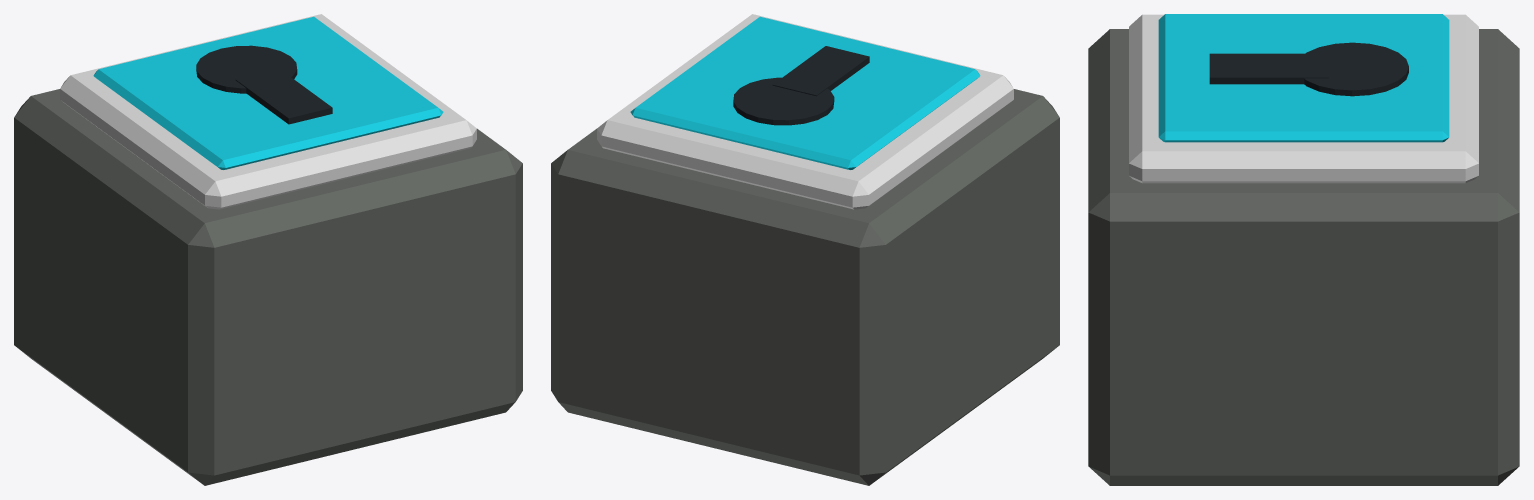
The model's file is door-blue.glb.
3 views of the same model, side by side, from view 1: azimuth 30°, elevation 25°; view 2: azimuth 150°, elevation 25°; view 3: azimuth 270°, elevation 25° (orthographic). The views are drawn at different scales.
Visible parts, largest first — view 1: door-blue; view 2: door-blue; view 3: door-blue.
Boxes of the visible parts, bbox=[...] form: door-blue: bbox=[14, 14, 522, 485]; door-blue: bbox=[551, 14, 1059, 485]; door-blue: bbox=[1088, 14, 1519, 485].
Size of the model in its own units: 0.8 by 0.693 by 0.8.
